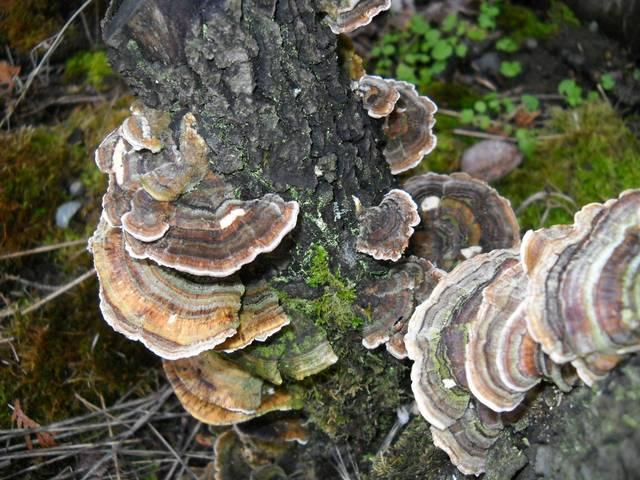Non-edible Mushroom: (373, 174, 640, 479), (86, 102, 301, 362), (351, 72, 439, 175)
